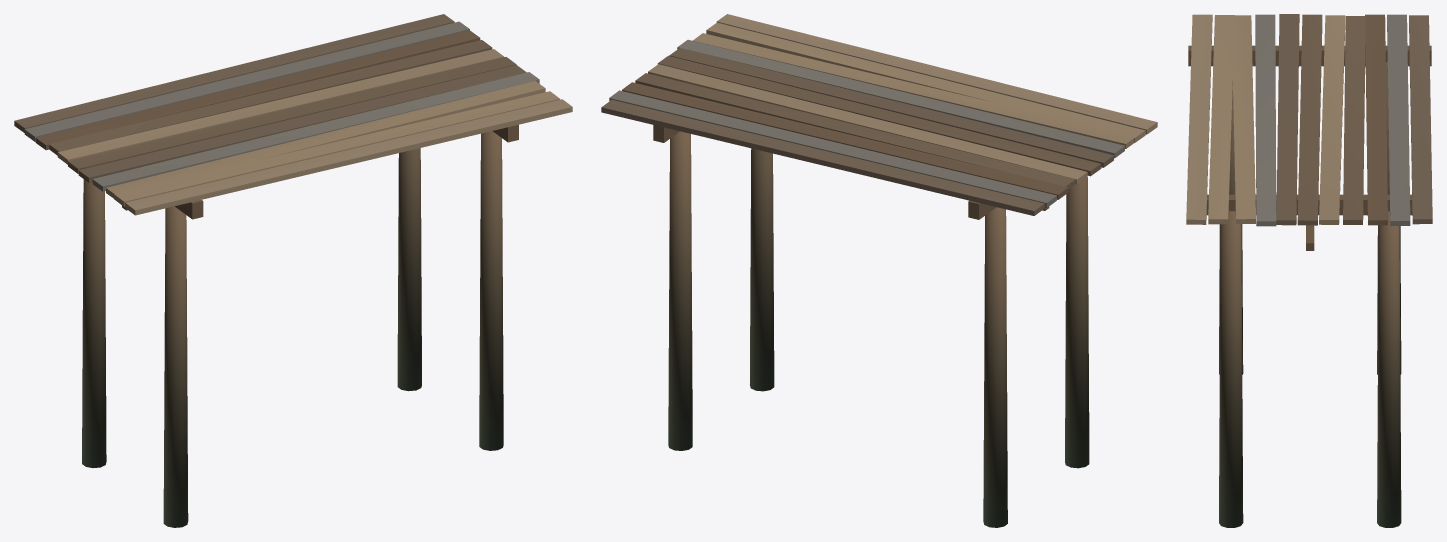
Rendered from Pier_Deck.glb.
3 renders of one model, left to right at view 1: azimuth 30°, elevation 25°; view 2: azimuth 150°, elevation 25°; view 3: azimuth 270°, elevation 25°, orthographic. The views are drawn at different scales.
Visible parts, largest first — view 1: Pier_Deck; view 2: Pier_Deck; view 3: Pier_Deck.
Boxes of the visible parts, x1,y1,x2,y2 form: Pier_Deck: (14, 14, 572, 527); Pier_Deck: (601, 14, 1157, 527); Pier_Deck: (1186, 14, 1432, 527).
Size of the model in its own units: 8.07 by 6 by 4.05.
